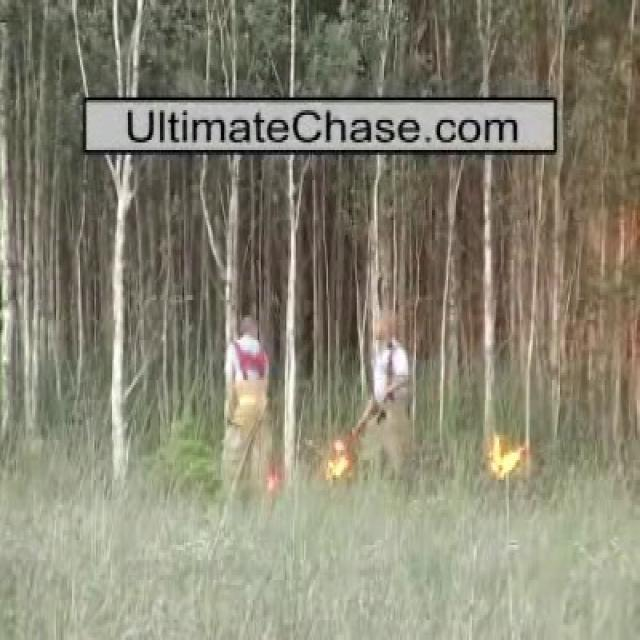Fire: (486, 431, 528, 483), (322, 438, 353, 476)
